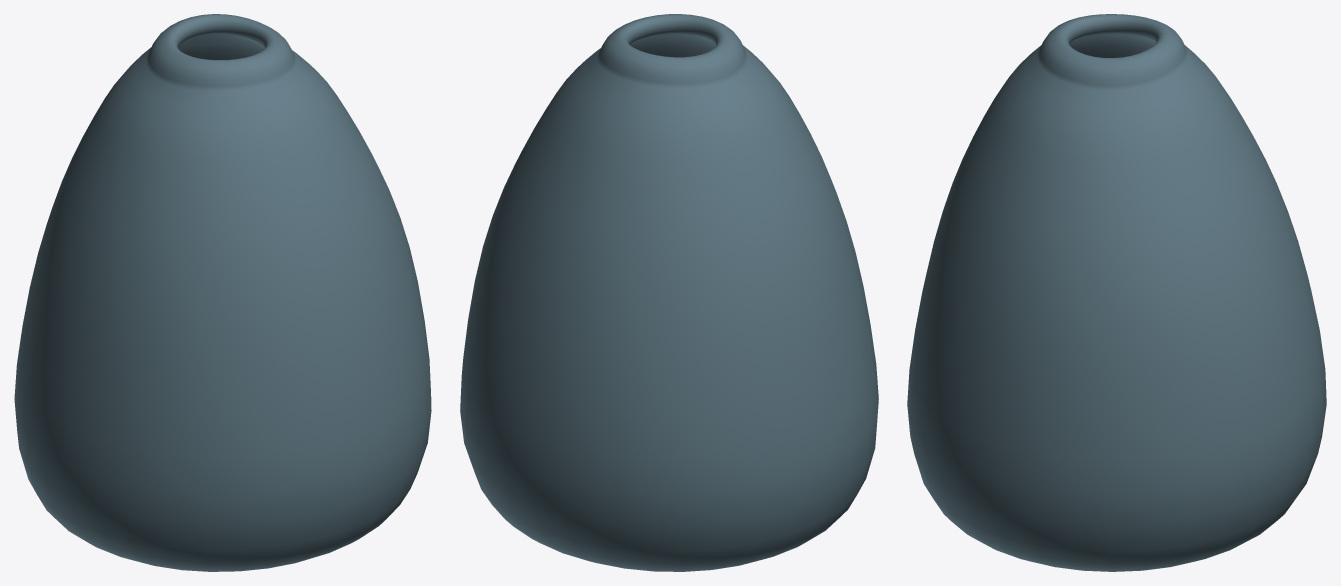
Rendered from blue_vase.fbx.
3 views of the same model, side by side, from view 1: azimuth 30°, elevation 25°; view 2: azimuth 150°, elevation 25°; view 3: azimuth 270°, elevation 25° (orthographic).
Parts seen in each view (by area): view 1: BlueVase; view 2: BlueVase; view 3: BlueVase.
Part boxes in pixels (x1,y1,x2,y2): BlueVase: [14, 14, 431, 571]; BlueVase: [460, 14, 878, 571]; BlueVase: [907, 14, 1326, 571].
Size of what is drawn, in the model's own units: 16.84 by 16.84 by 21.44.
